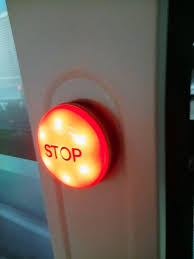bell: (31, 98, 118, 190)
